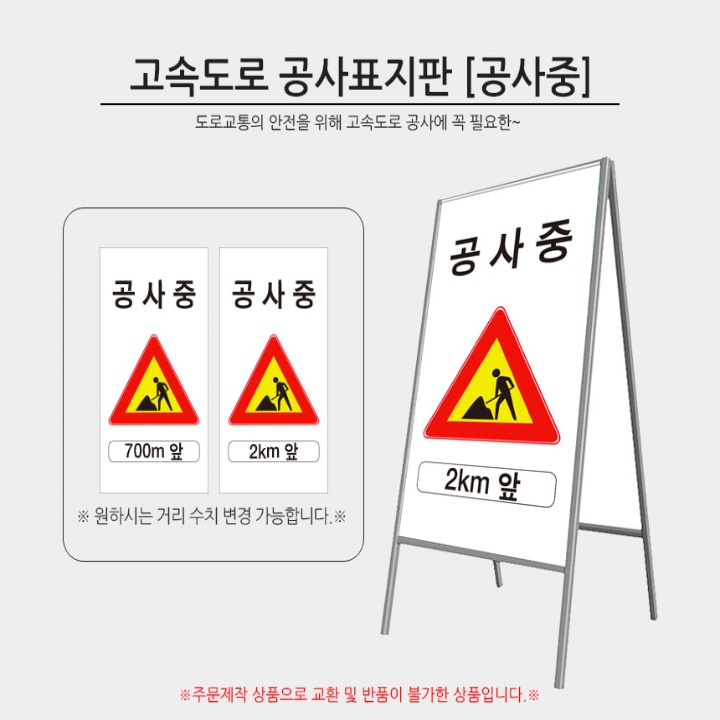const: (453, 357, 531, 427), (252, 372, 298, 412), (132, 371, 174, 414)
